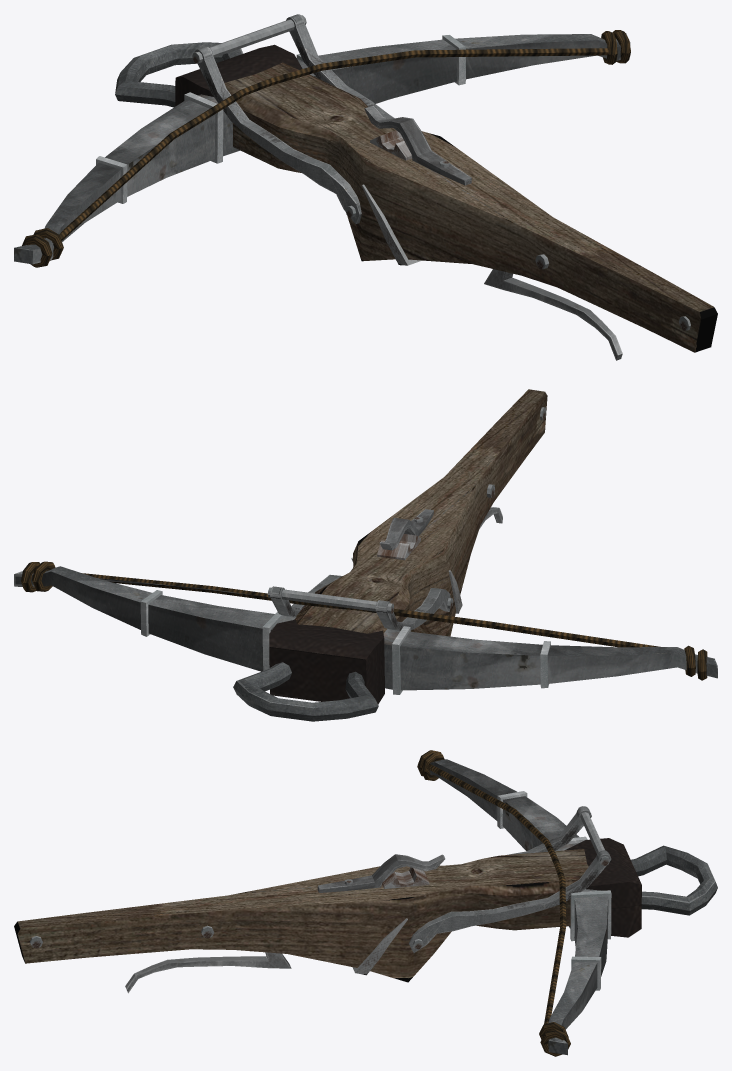
The model's file is crossbow.obj.
3 views of the same model, one above another, from view 1: azimuth 30°, elevation 25°; view 2: azimuth 150°, elevation 25°; view 3: azimuth 270°, elevation 25° (orthographic). The views are drawn at different scales.
Parts seen in each view (by area): view 1: crossbow; view 2: crossbow; view 3: crossbow.
Boxes of the visible parts, x1,y1,x2,y2 form: crossbow: (14, 14, 717, 360); crossbow: (14, 389, 717, 721); crossbow: (14, 750, 717, 1056).
Bounding box in the file's own units: 0.8568 × 0.1758 × 0.8984.
1 material, 1 textured.
